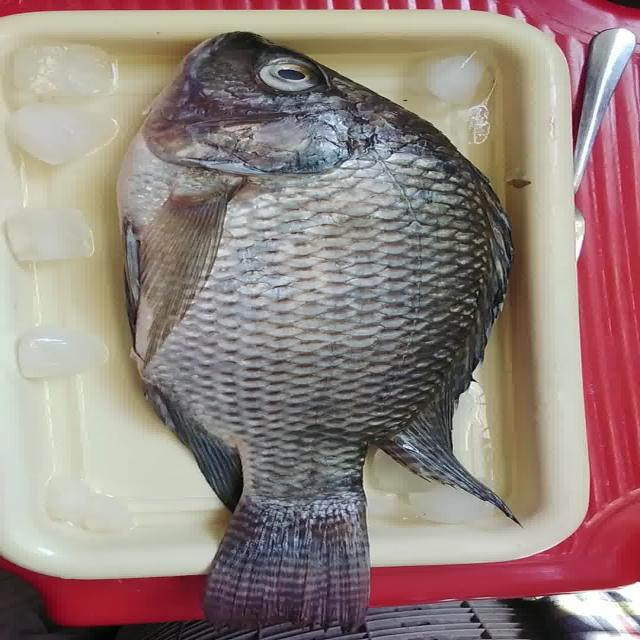Fresh: (123, 116, 547, 636), (247, 56, 346, 106)
